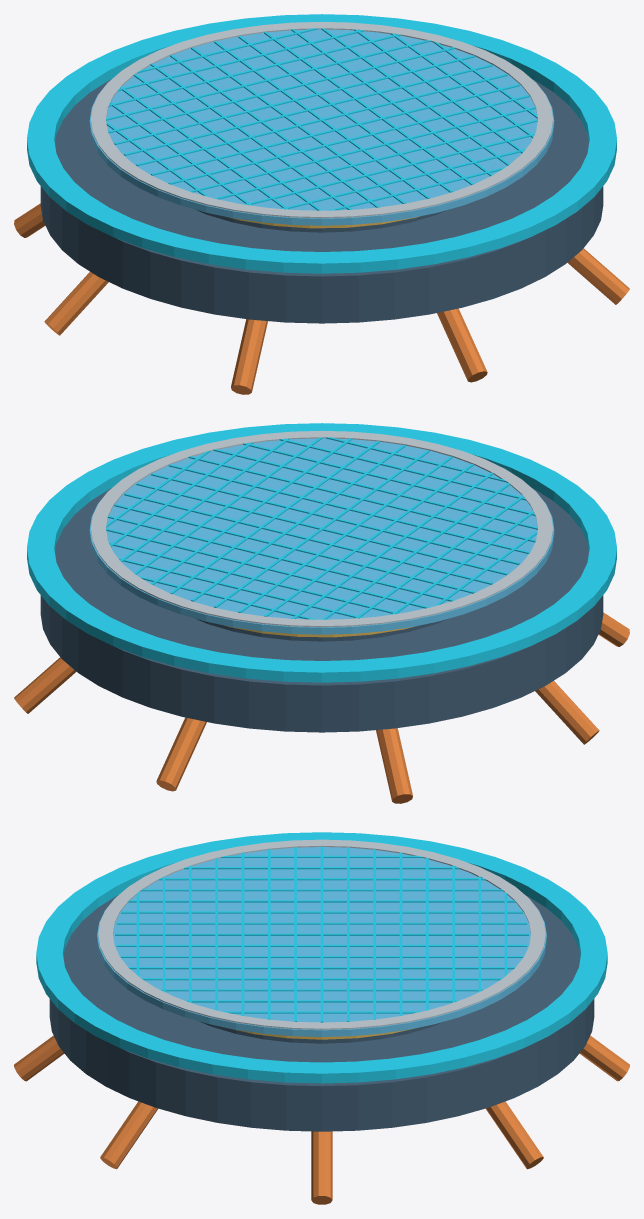
File: 32_L78_LowKHeatedWaferChuck.fbx
The picture shows the model from 3 angles, top to bottom: view 1: azimuth 30°, elevation 25°; view 2: azimuth 150°, elevation 25°; view 3: azimuth 270°, elevation 25°; orthographic projection. The views are drawn at different scales.
Parts seen in each view (by area): view 1: LowKHeatedWaferChuck, LowKHeatedWaferChuck_Part_0042; view 2: LowKHeatedWaferChuck, LowKHeatedWaferChuck_Part_0042; view 3: LowKHeatedWaferChuck, LowKHeatedWaferChuck_Part_0042.
Part boxes in pixels (bbox=[...]): LowKHeatedWaferChuck: bbox=[14, 14, 629, 394]; LowKHeatedWaferChuck_Part_0042: bbox=[195, 209, 448, 232]; LowKHeatedWaferChuck: bbox=[14, 423, 629, 803]; LowKHeatedWaferChuck_Part_0042: bbox=[195, 618, 448, 641]; LowKHeatedWaferChuck: bbox=[14, 832, 629, 1204]; LowKHeatedWaferChuck_Part_0042: bbox=[199, 1021, 444, 1043].
Size of the model in its own units: 233 by 60.98 by 233.
